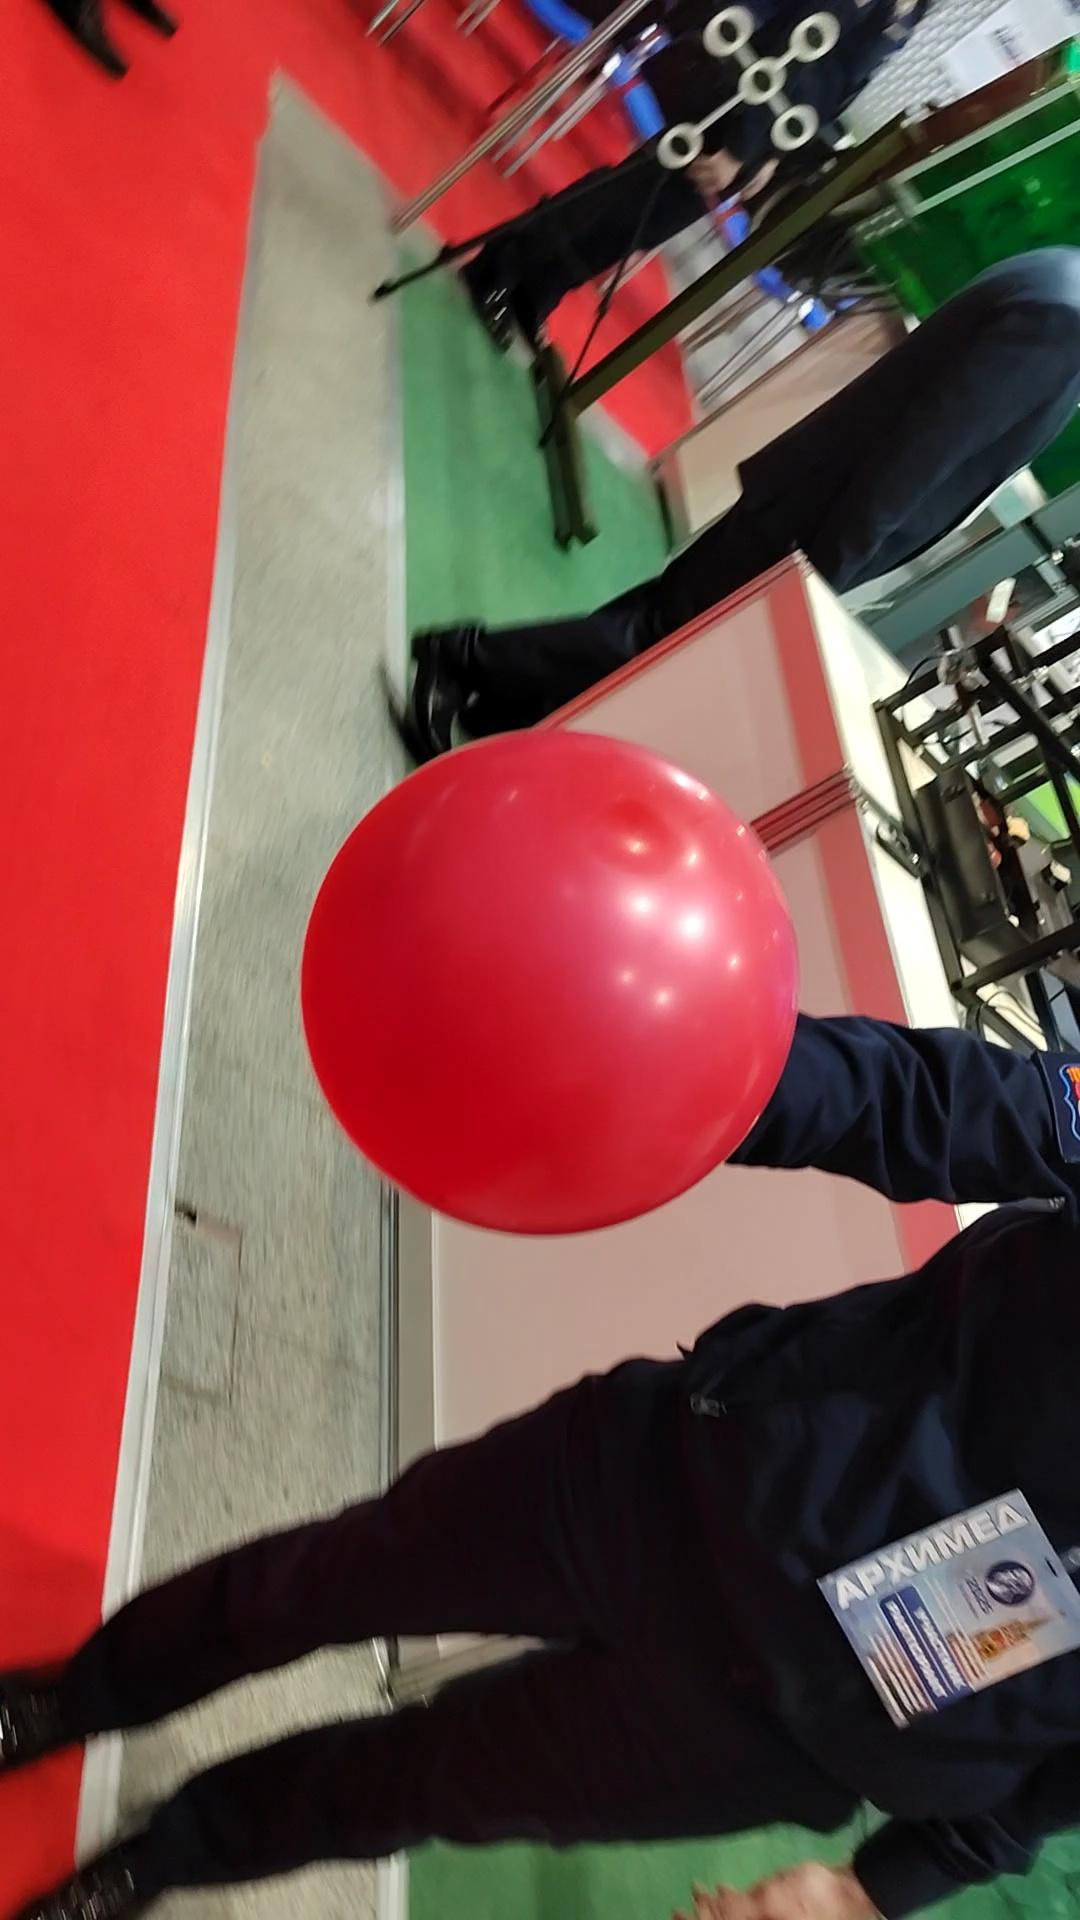red: (270, 713, 810, 1250)
